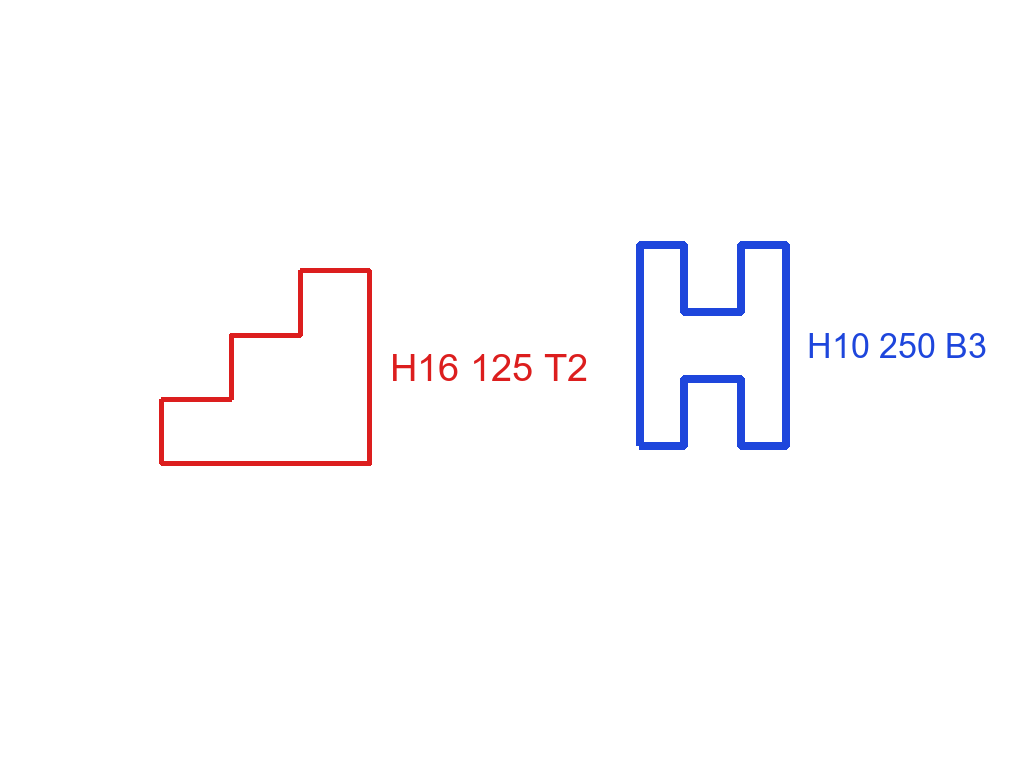shape: (157, 266, 374, 468), (633, 239, 793, 451)
text: (388, 352, 590, 383), (805, 331, 989, 360)
